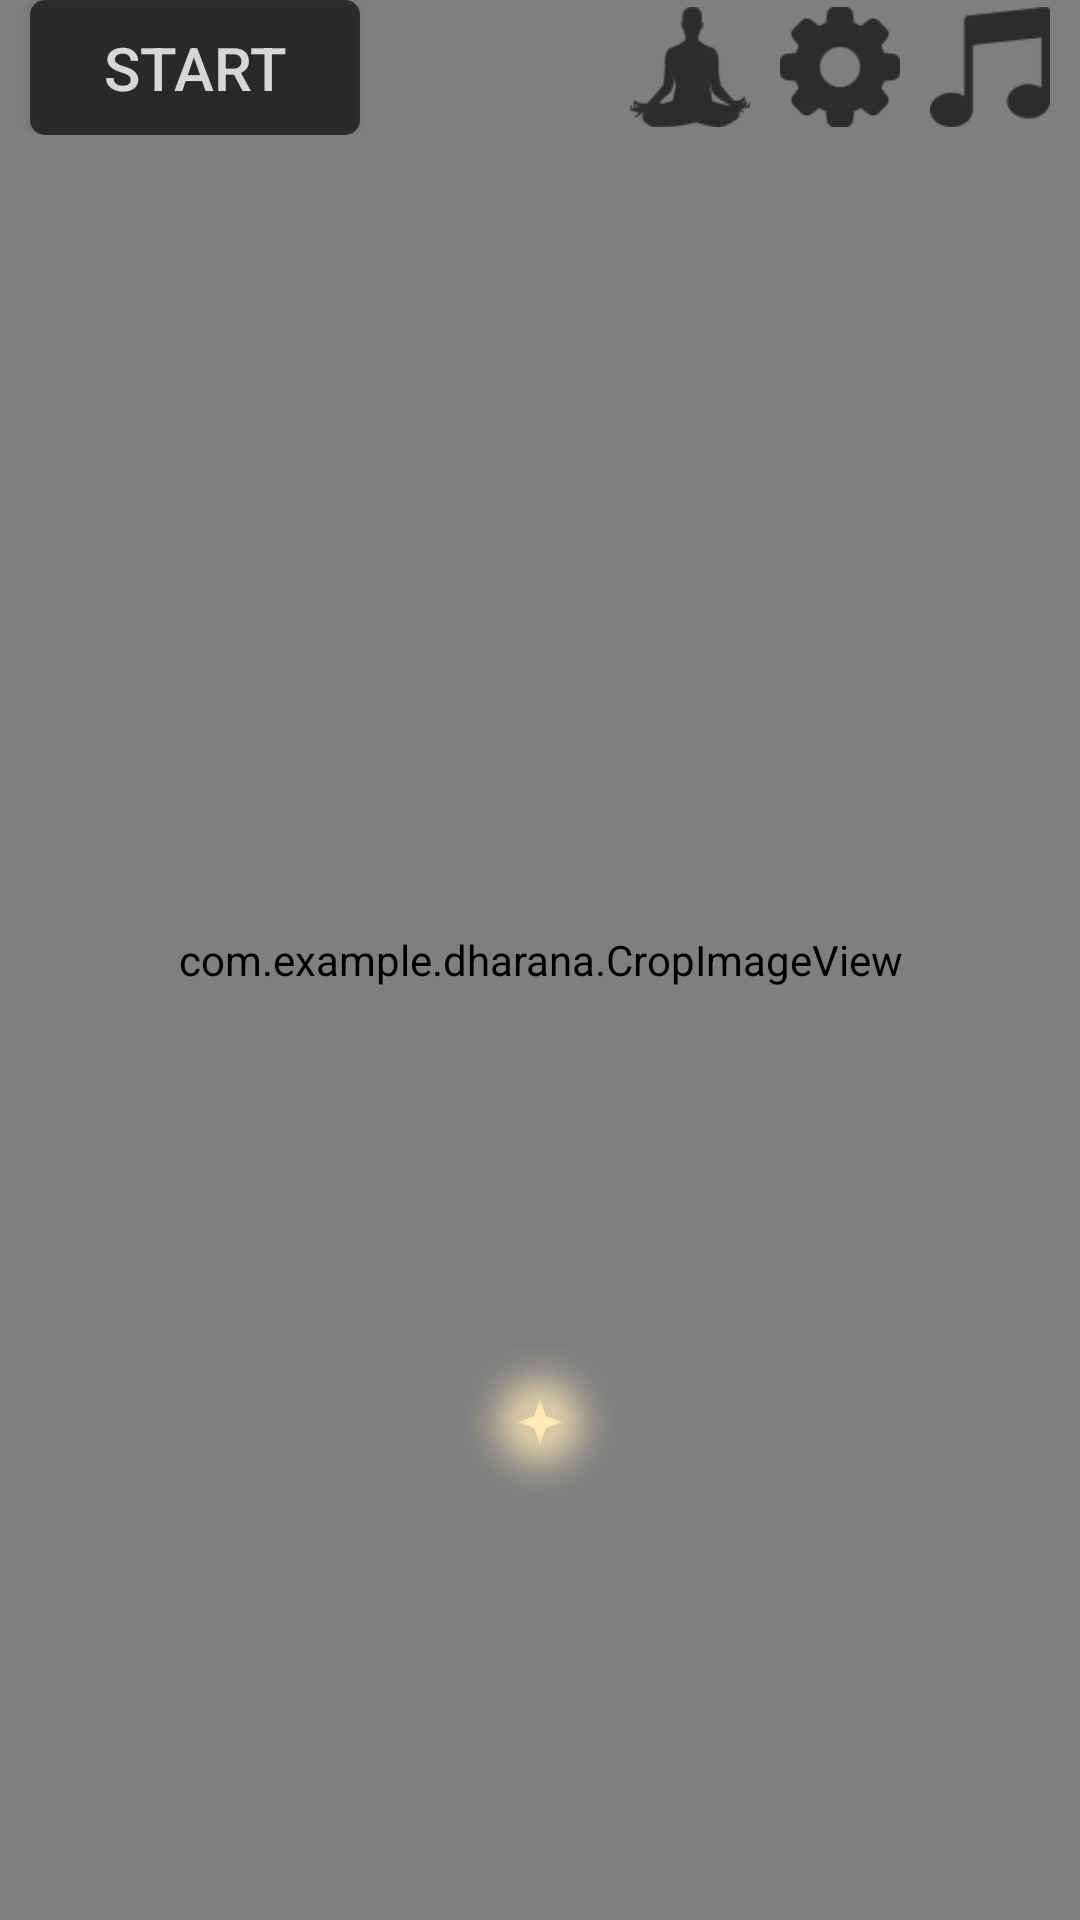

Where icons sit on this 1080px×1920px app screen, as (x1, y1, x2, y2):
Settings button: (780, 7, 900, 127)
Toggle music button: (930, 7, 1050, 127)
